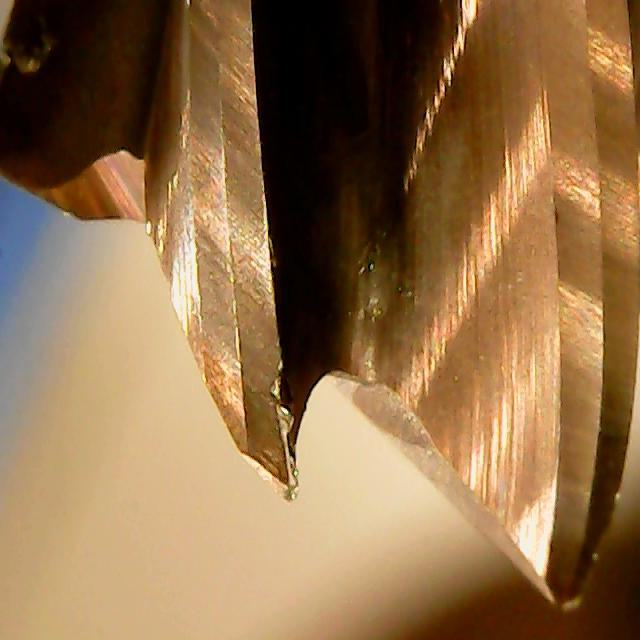Tool-wear-class-1: (179, 182, 312, 507)
